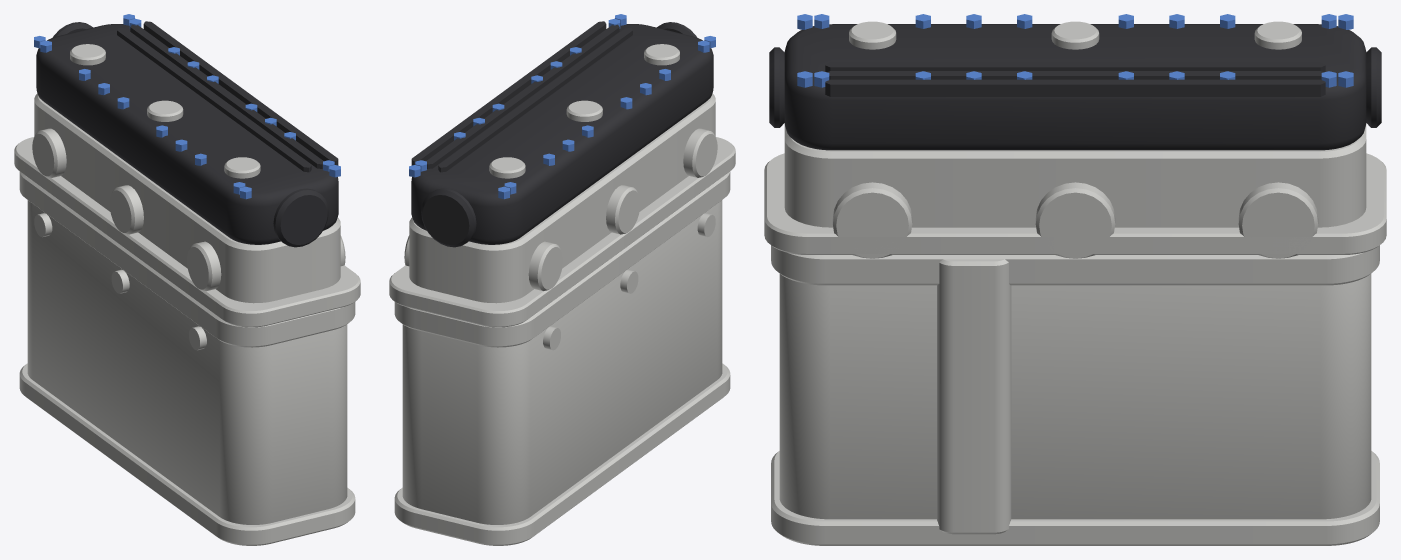
The model's file is race_high_comp.glb.
The picture shows the model from 3 angles, left to right: view 1: azimuth 30°, elevation 25°; view 2: azimuth 150°, elevation 25°; view 3: azimuth 270°, elevation 25°; orthographic projection. The views are drawn at different scales.
Visible parts, largest first — view 1: race_high_comp; view 2: race_high_comp; view 3: race_high_comp.
Part boxes in pixels (x1,y1,x2,y2): race_high_comp: (14, 14, 360, 545); race_high_comp: (389, 14, 735, 545); race_high_comp: (764, 14, 1386, 545).
Bounding box in the file's own units: 0.128 × 0.3 × 0.368.
